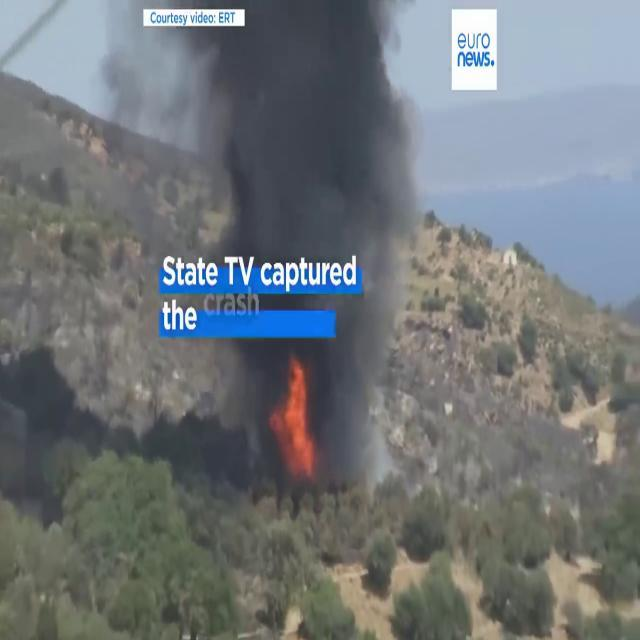Fire: (272, 348, 317, 478)
Smoke: (184, 3, 434, 497)
